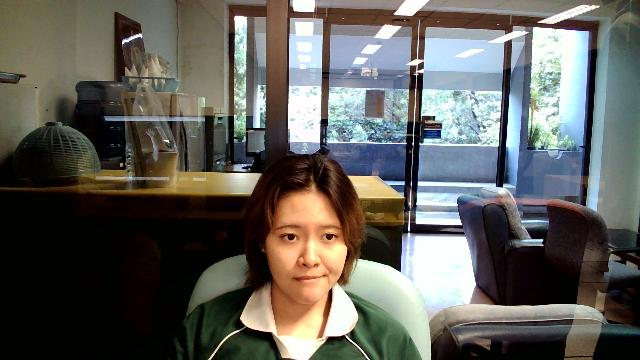fokus: (269, 195, 347, 303)
